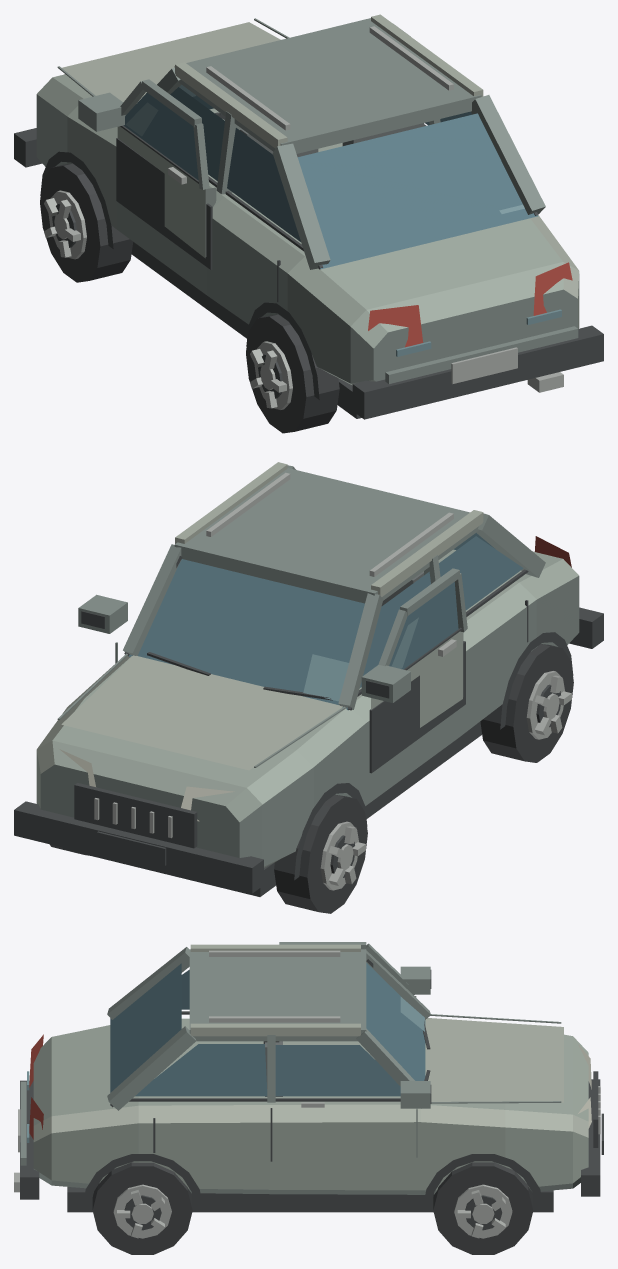
The model's file is Car001.glb.
3 views of the same model, one above another, from view 1: azimuth 30°, elevation 25°; view 2: azimuth 150°, elevation 25°; view 3: azimuth 270°, elevation 25° (orthographic). The views are drawn at different scales.
Parts seen in each view (by area): view 1: Body, Cabin, Glass, Trim, DoorArt, WheelLR, WheelLF, Interior; view 2: Body, Cabin, Trim, Glass, DoorArt, WheelLF, WheelLR; view 3: Body, Cabin, Glass, Trim, WheelRF, WheelRR, DoorArt.
Boxes of the visible parts, x1,y1,x2,y2 form: Body: (36, 22, 579, 385); Cabin: (157, 14, 545, 269); Glass: (170, 84, 537, 269); Trim: (14, 18, 603, 419); DoorArt: (117, 79, 216, 258); WheelLR: (246, 314, 339, 433); WheelLF: (40, 163, 133, 282); Interior: (215, 112, 424, 156); Body: (36, 549, 579, 867); Cabin: (123, 462, 545, 709); Trim: (14, 472, 603, 896); Glass: (128, 533, 523, 710); DoorArt: (371, 568, 467, 727); WheelLF: (274, 794, 367, 913); WheelLR: (480, 644, 573, 762); Body: (33, 1018, 588, 1194); Cabin: (107, 944, 430, 1110); Glass: (110, 963, 425, 1105); Trim: (14, 950, 603, 1212); WheelRF: (433, 1162, 533, 1254); WheelRR: (92, 1162, 192, 1254); DoorArt: (279, 942, 416, 997).
Bounding box in the file's own units: 2.31 × 1.84 × 4.54.
